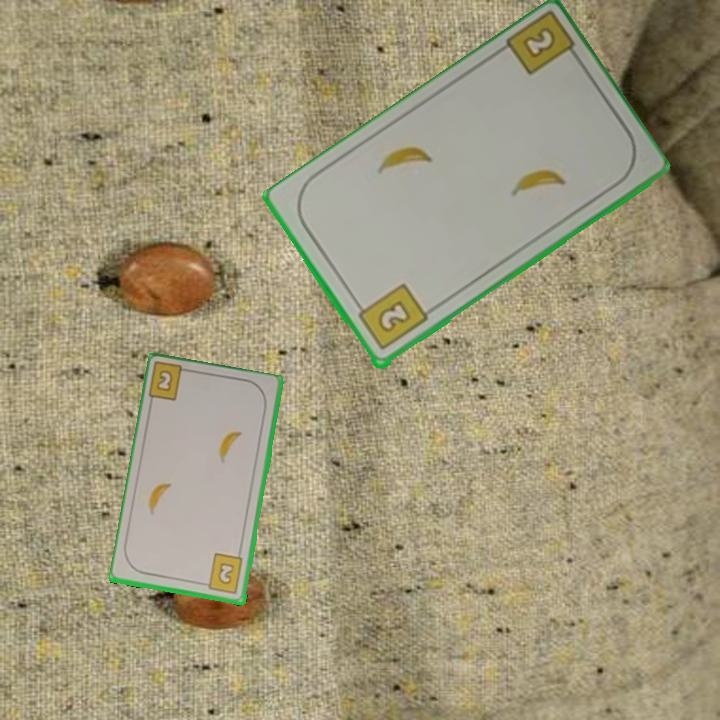2b: (352, 280, 431, 354), (501, 11, 585, 79), (199, 551, 246, 597), (146, 361, 195, 404)
